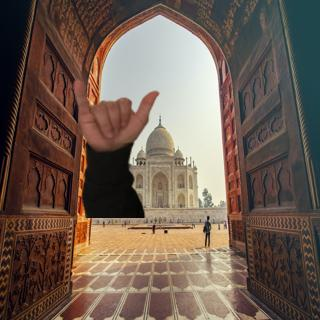HAVE: (64, 73, 164, 157)
